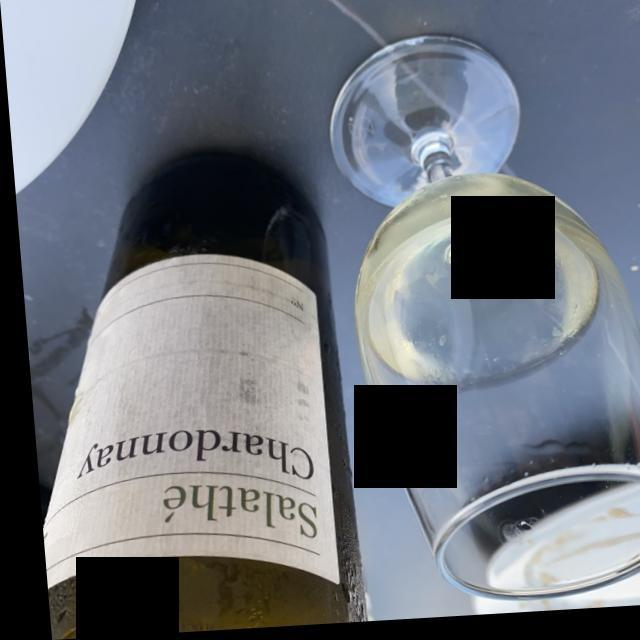wine: (357, 189, 596, 391)
